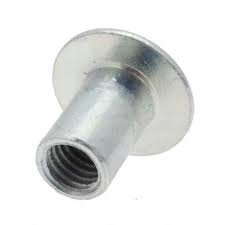Thread: (38, 137, 106, 198)
